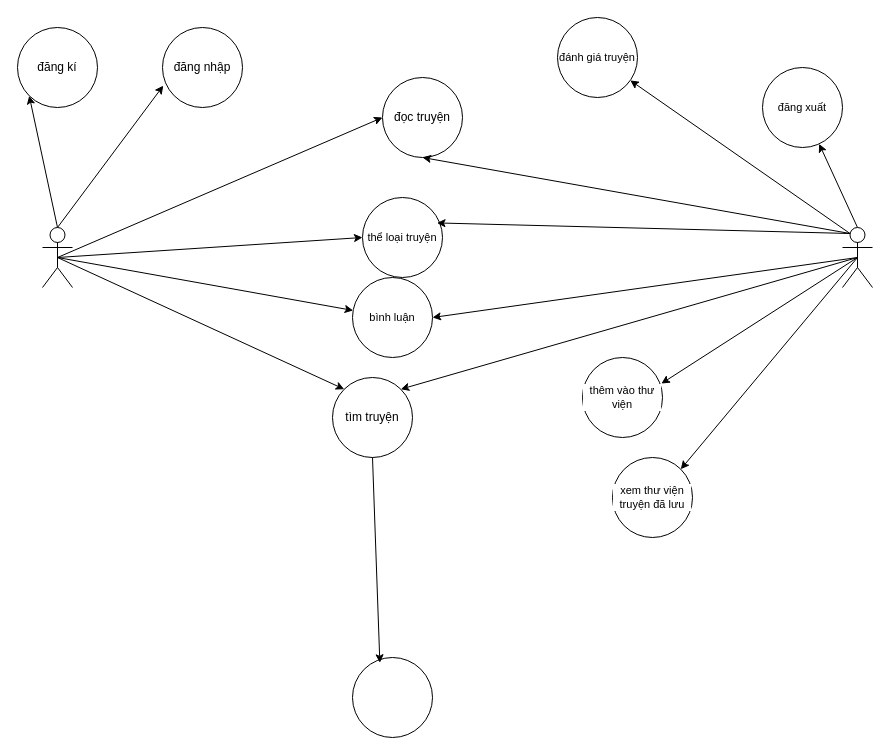
The diagram is 895 pixels wide and 755 high, and some of its shapes have lost their labels. Here are the shapes that lost their labels. From the top down, the centre of each, then its label:
[57,257]: Guest
[857,257]: member
[392,697]: tìm kiếm theo bộ lọc
